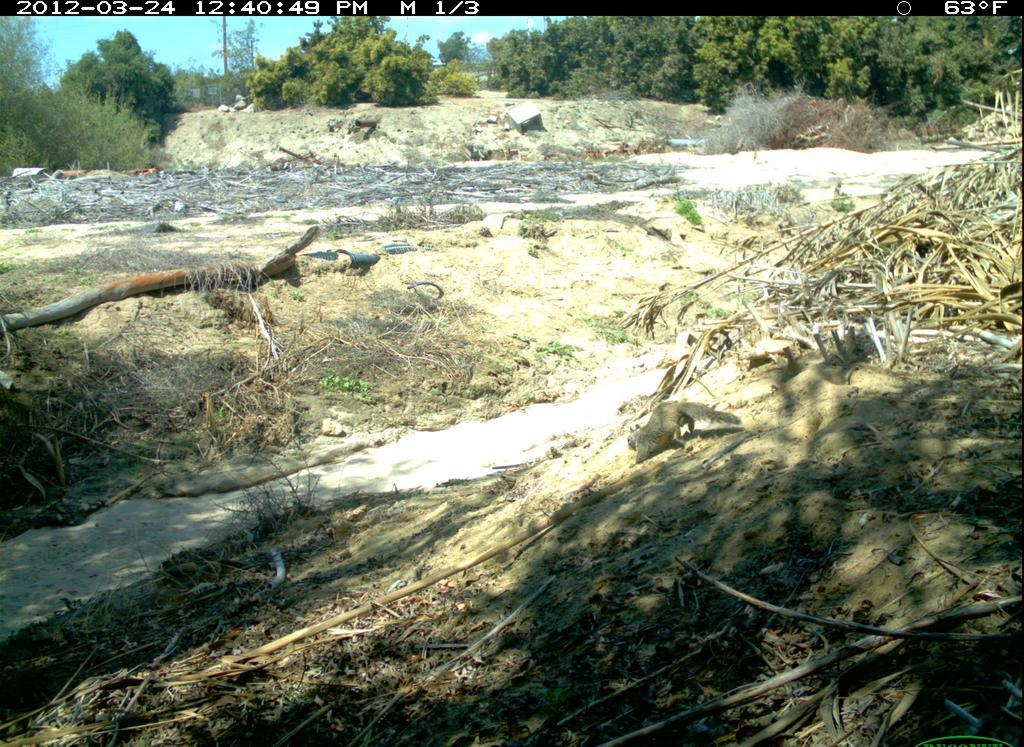squirrel: (606, 396, 745, 465)
